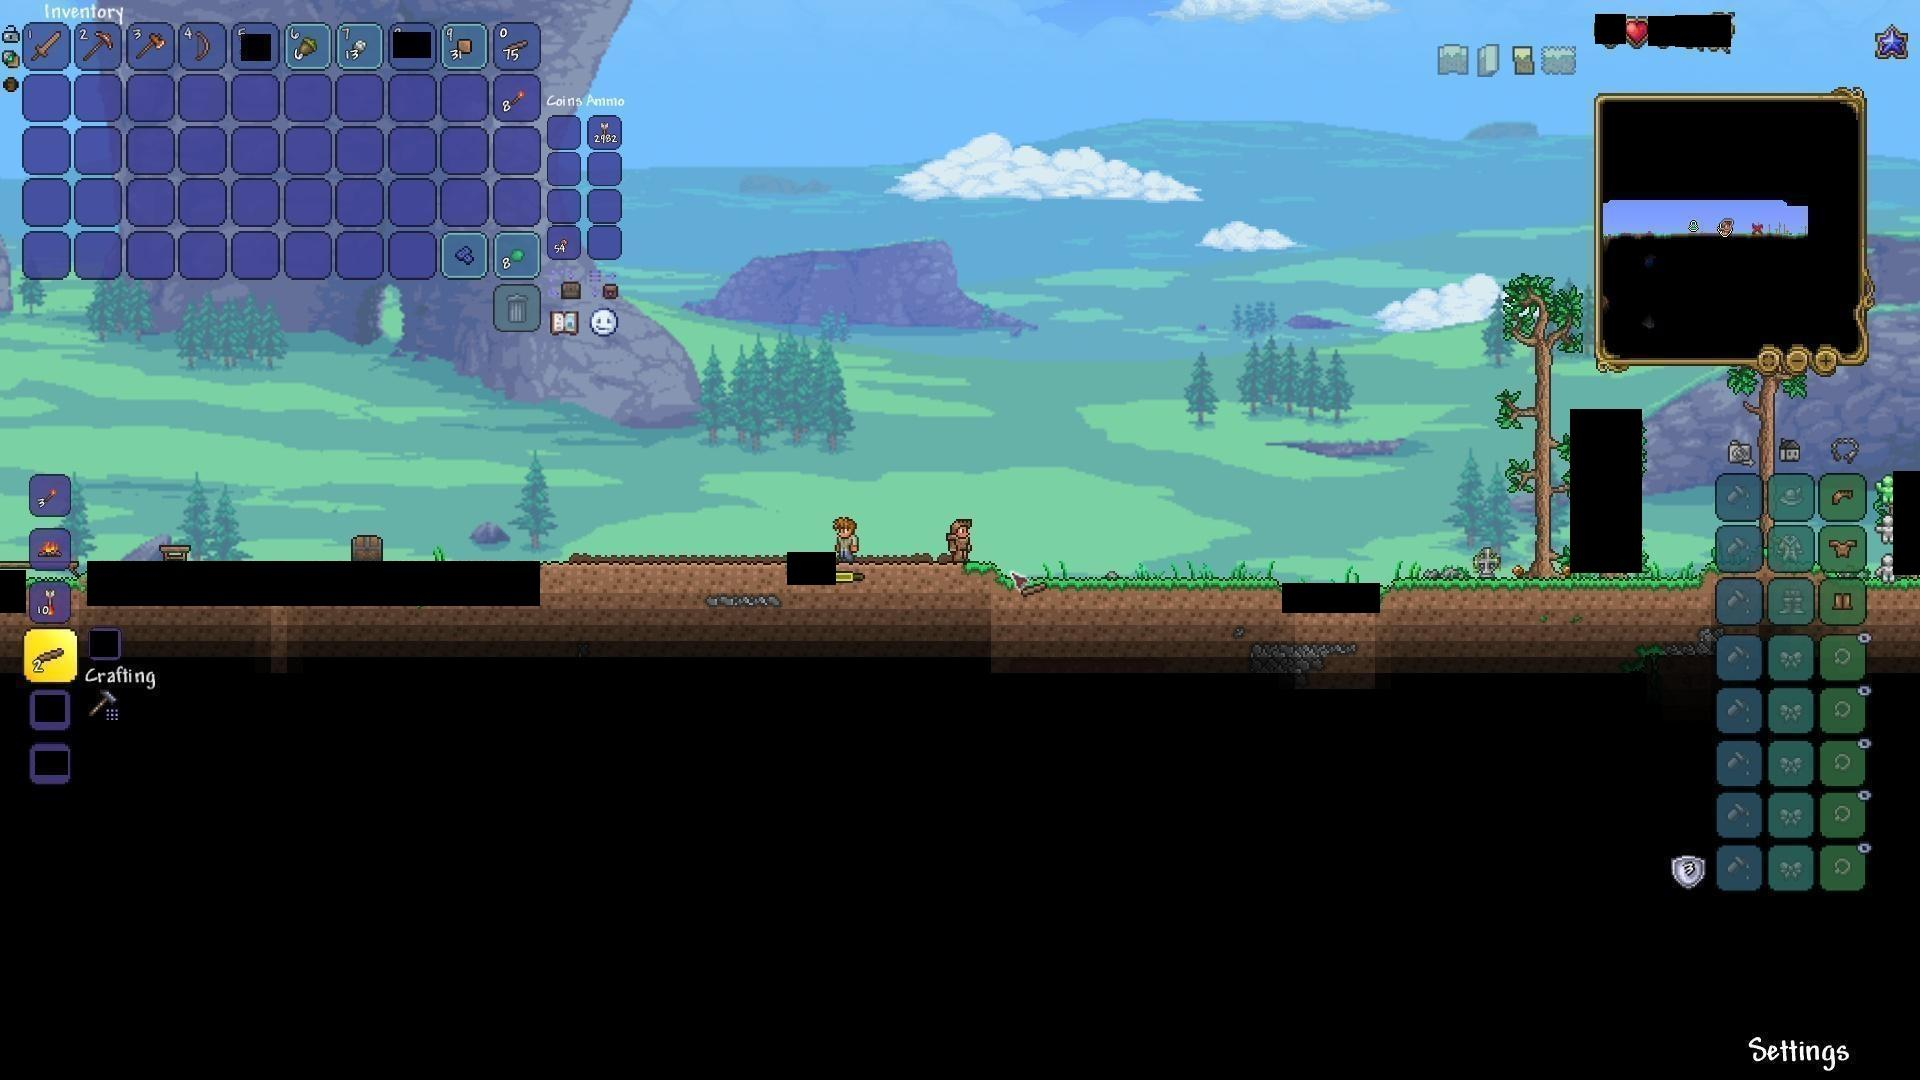breastplate: (1830, 538, 1859, 559)
dirt: (967, 564, 1282, 618), (1379, 575, 1704, 621)
heart: (1625, 17, 1651, 46)
helmet: (1828, 483, 1858, 510)
legs: (1832, 588, 1857, 616)
tree: (1502, 269, 1575, 570)
workbench: (156, 541, 193, 566)
